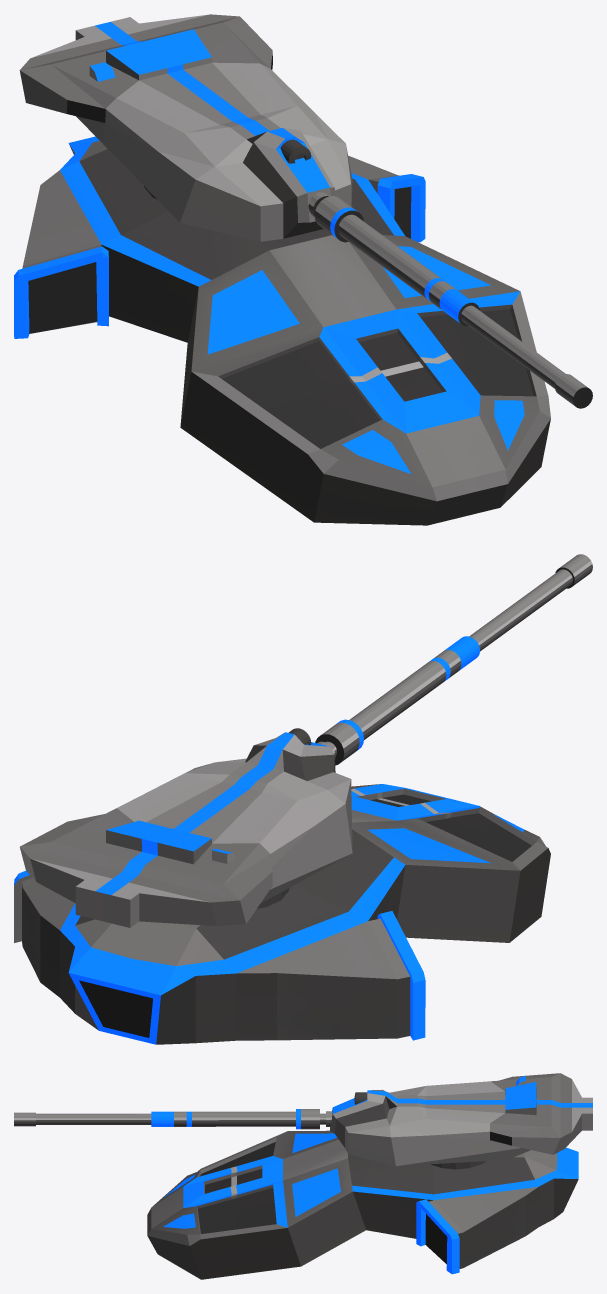
The model's file is tank@Shooting.fbx.
The picture shows the model from 3 angles, top to bottom: view 1: azimuth 30°, elevation 25°; view 2: azimuth 150°, elevation 25°; view 3: azimuth 270°, elevation 25°; orthographic projection. The views are drawn at different scales.
Visible parts, largest first — view 1: Top, Bottom; view 2: Top, Bottom; view 3: Top, Bottom.
Part boxes in pixels (<box>): Top: <box>14,136,550,525</box>; Bottom: <box>19,14,592,408</box>; Top: <box>14,784,550,1044</box>; Bottom: <box>20,554,592,927</box>; Top: <box>147,1130,578,1279</box>; Bottom: <box>14,1073,592,1169</box>.
Bounding box in the file's own units: 379 × 226 × 766.
